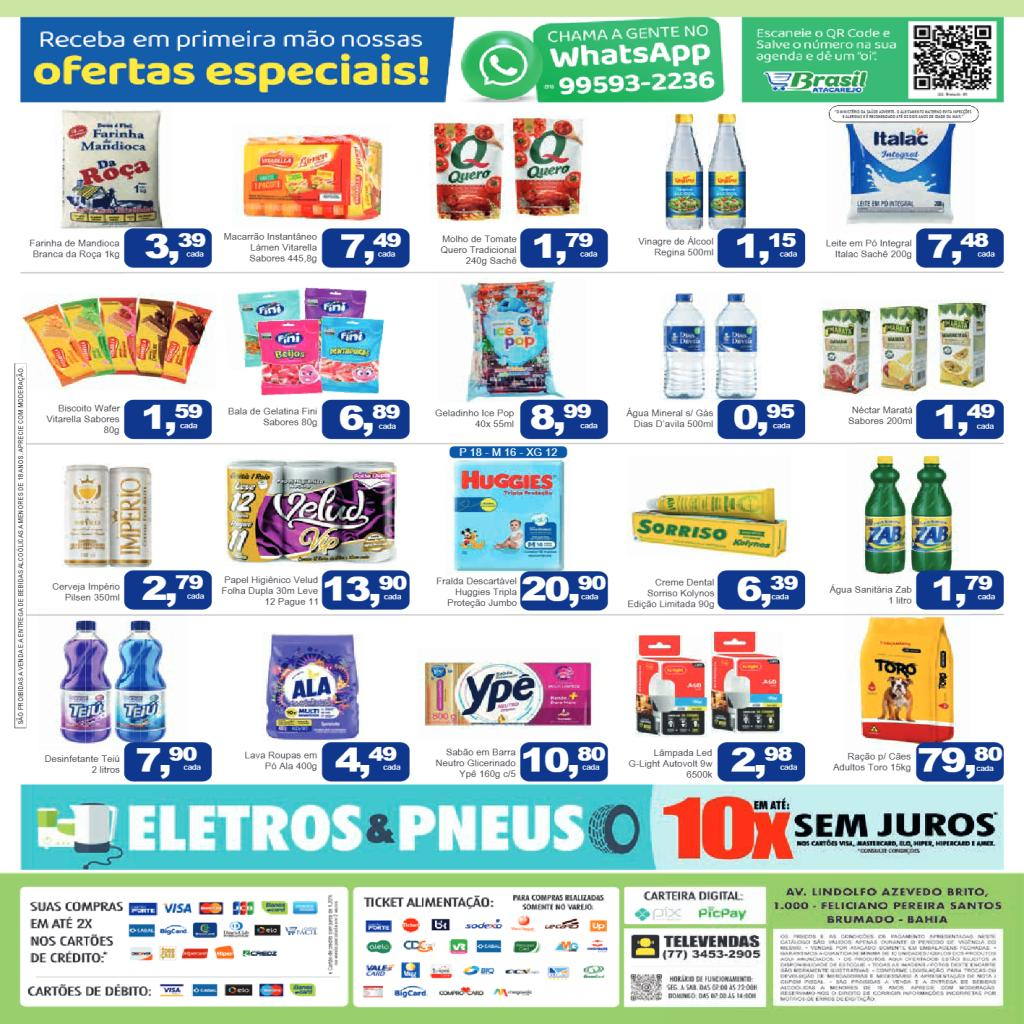price: (323, 574, 409, 608), (521, 746, 607, 779), (520, 575, 606, 607), (918, 746, 1004, 777), (726, 745, 800, 779), (926, 232, 996, 266), (334, 746, 404, 780), (134, 746, 204, 780), (141, 230, 207, 266), (338, 401, 402, 438), (532, 231, 599, 266), (730, 403, 797, 438), (140, 573, 207, 608), (932, 402, 997, 438), (734, 231, 800, 266), (528, 404, 600, 436), (339, 231, 404, 266), (932, 574, 998, 608), (736, 574, 800, 608), (143, 402, 202, 436)
product_text: (220, 230, 319, 266), (623, 574, 716, 612), (219, 573, 319, 606), (627, 747, 714, 781), (433, 745, 517, 780), (434, 574, 519, 608), (436, 232, 518, 266), (44, 402, 122, 436), (225, 404, 319, 430), (826, 580, 913, 608), (624, 404, 716, 430), (822, 235, 913, 261), (433, 405, 518, 432), (832, 748, 913, 776), (26, 236, 120, 260), (241, 747, 318, 774), (636, 234, 716, 258), (42, 752, 122, 776), (844, 402, 914, 428), (50, 579, 122, 602)
